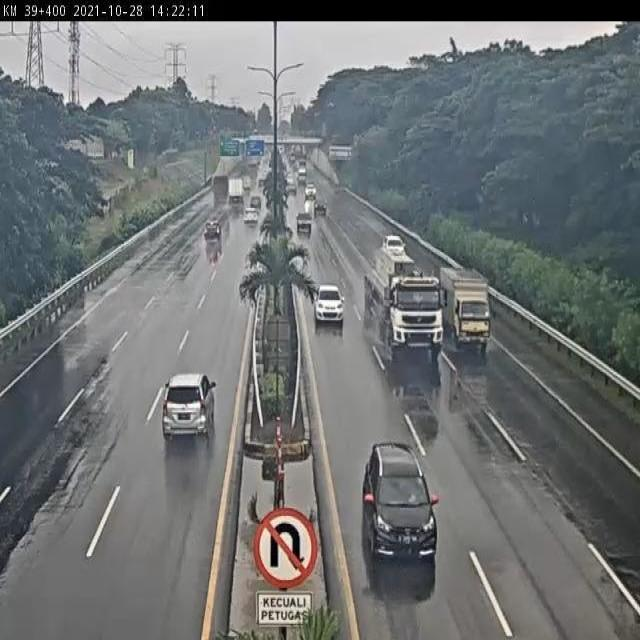Car: (360, 440, 439, 564), (161, 374, 218, 444), (314, 284, 346, 328), (202, 218, 222, 244), (382, 235, 408, 251), (242, 207, 260, 225), (314, 198, 328, 217), (304, 182, 318, 199), (249, 196, 263, 210)
Truck: (364, 248, 449, 363), (441, 267, 492, 358), (211, 174, 230, 203), (227, 176, 244, 203), (296, 211, 314, 234), (241, 174, 251, 191)
